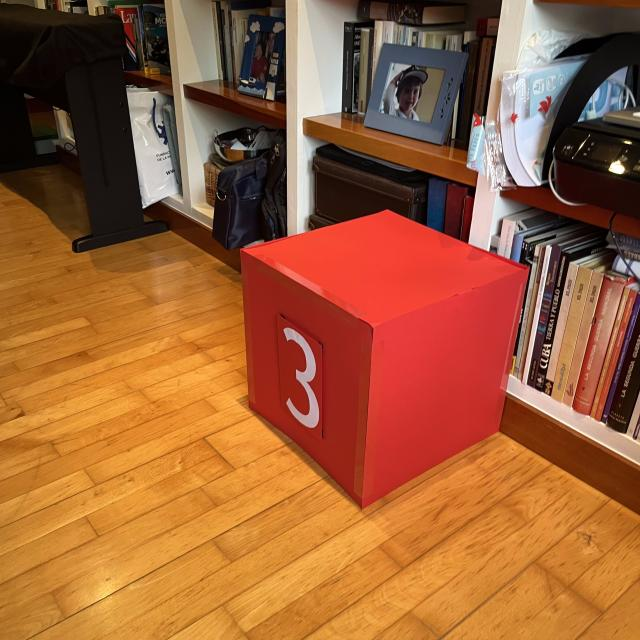box: (236, 206, 531, 510)
